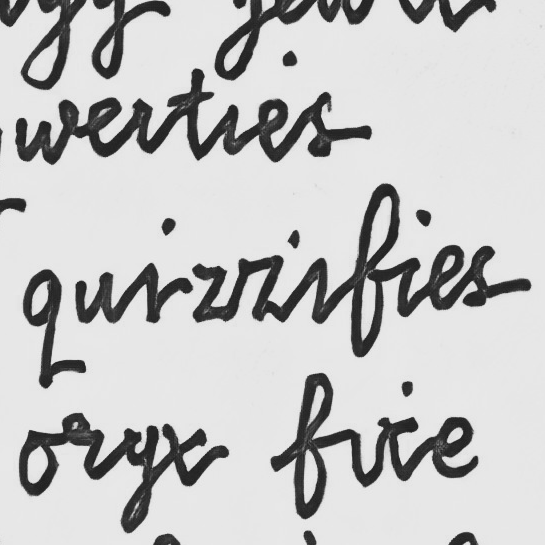e: (425, 242, 467, 313)
f: (345, 181, 403, 359)
i: (391, 207, 433, 321), (139, 214, 178, 325), (304, 253, 332, 328)
q: (21, 266, 67, 390)
s: (458, 244, 496, 310)
u: (72, 270, 117, 327)
z: (236, 253, 286, 324), (188, 262, 229, 324)
